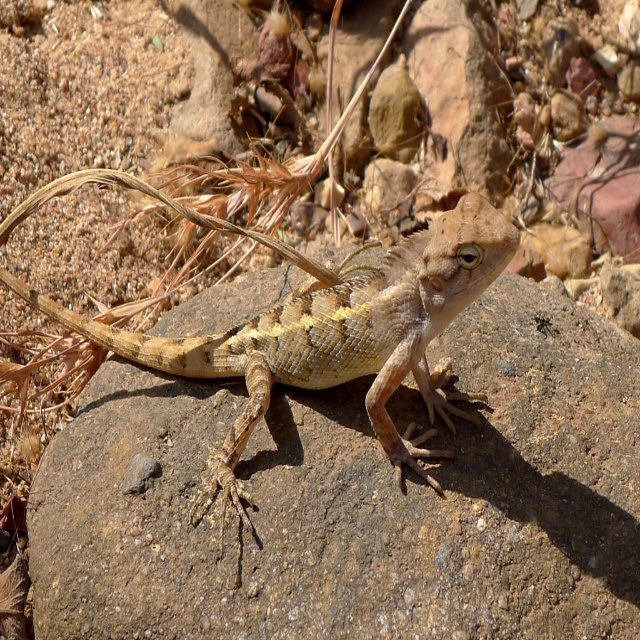Lizard: (34, 185, 510, 572)
